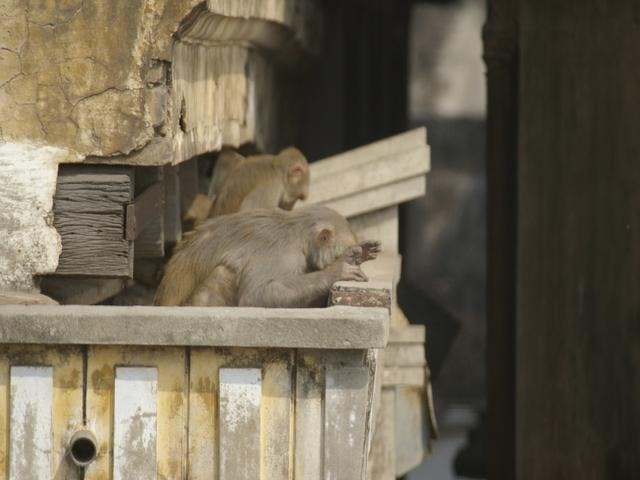monkey: (144, 183, 387, 337)
